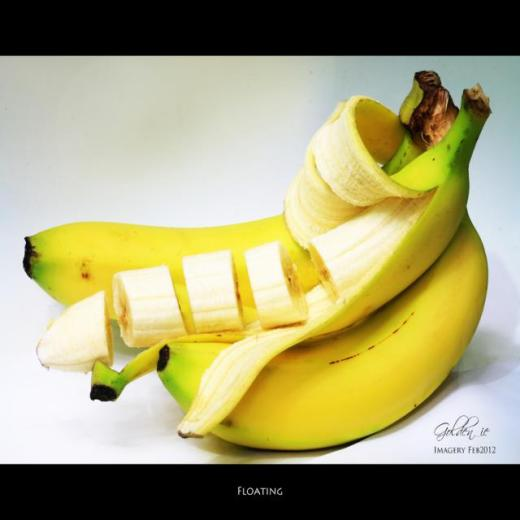Banana: (174, 84, 482, 441), (22, 130, 422, 320), (35, 288, 110, 374), (114, 264, 190, 347), (243, 241, 309, 333), (183, 253, 242, 333)
